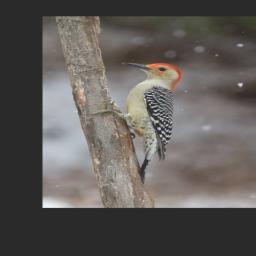Woodpecker: (88, 62, 182, 183)
